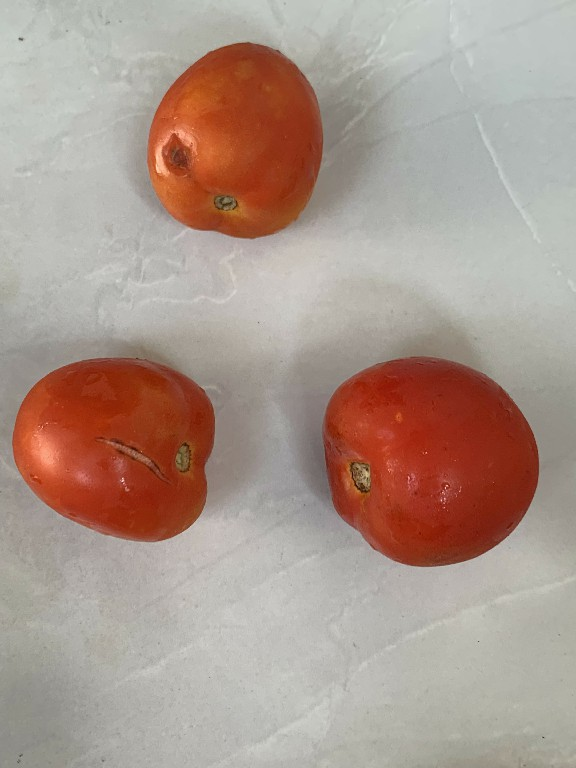NG: (137, 28, 342, 246), (8, 348, 230, 548)
OK: (300, 340, 552, 582)
